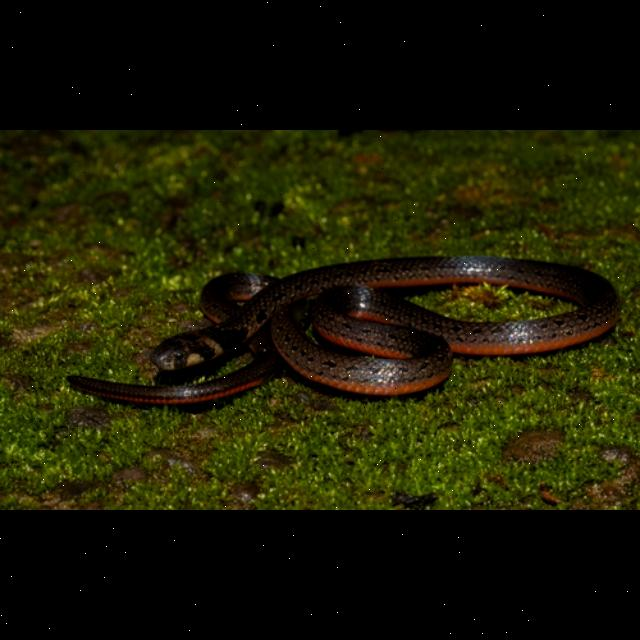snake: (62, 250, 622, 428)
